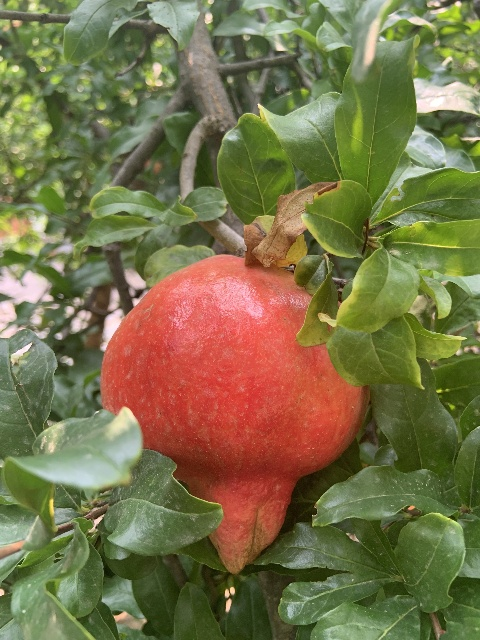ripe: (100, 254, 370, 573)
